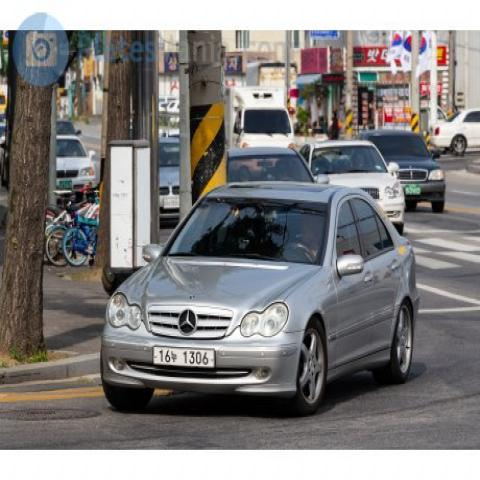LP: (151, 335, 221, 373)
